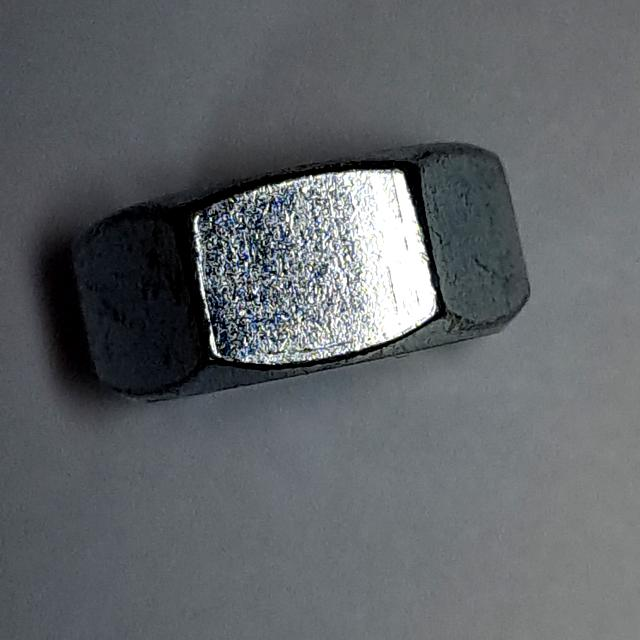Side_Excellent: (59, 124, 555, 426)
